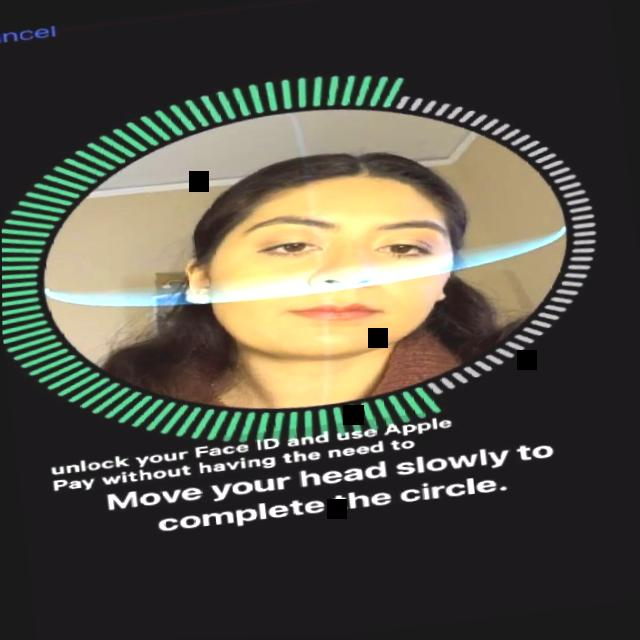NO-Mask: (192, 166, 462, 369)
